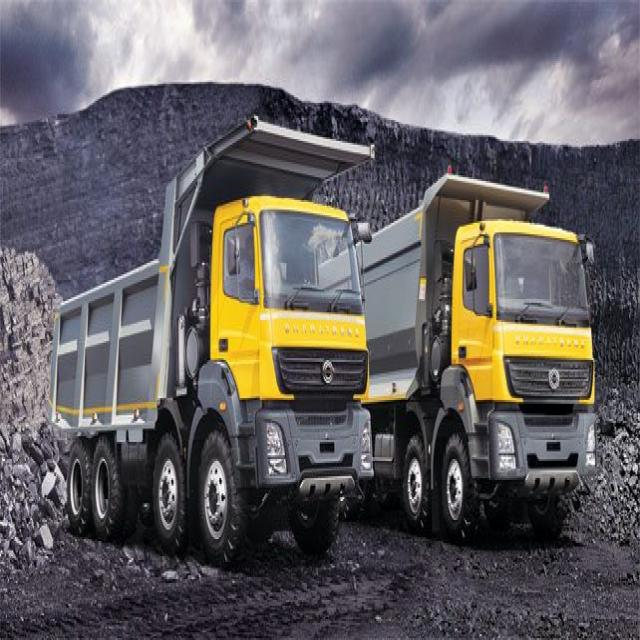dump_truck: (39, 110, 381, 564), (367, 177, 604, 535)
